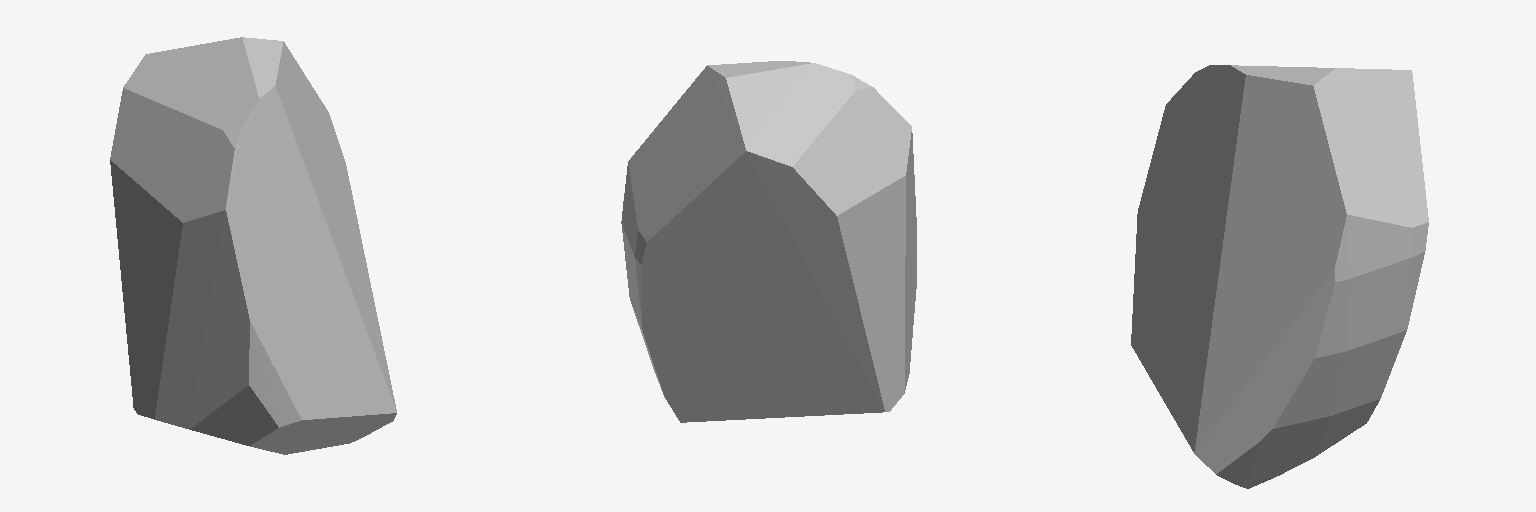
The model's file is Sphere_Cell_Fracture42.obj.
3 renders of one model, left to right at view 1: azimuth 30°, elevation 25°; view 2: azimuth 150°, elevation 25°; view 3: azimuth 270°, elevation 25°, orthographic.
Size of the model in its own units: 0.6485 by 1.01 by 0.698.